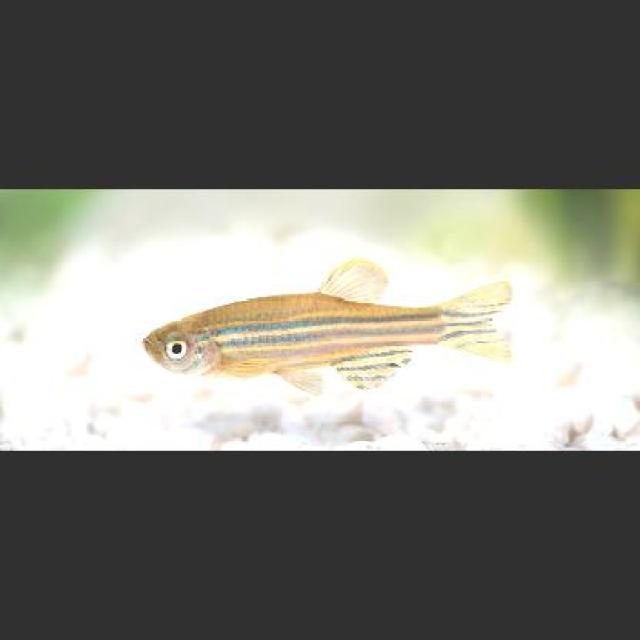ZebraFish: (142, 255, 513, 394)
